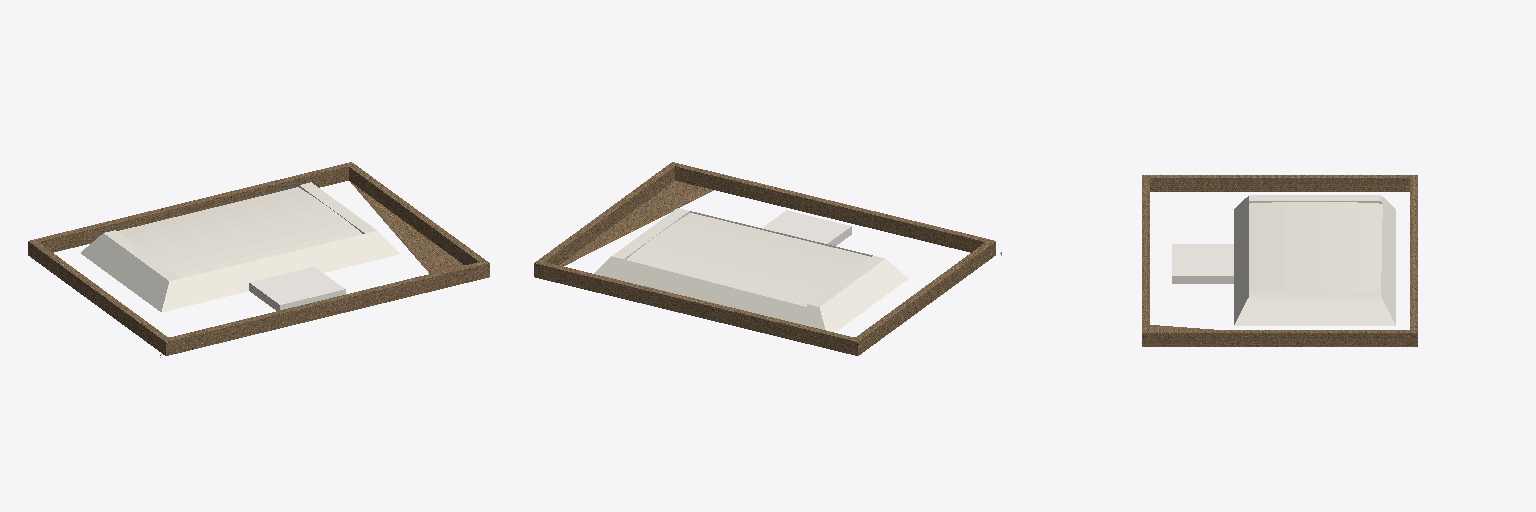
The picture shows the model from 3 angles: view 1: azimuth 30°, elevation 25°; view 2: azimuth 150°, elevation 25°; view 3: azimuth 270°, elevation 25°; orthographic projection.
Visible parts, largest first — view 1: Mesh1 Component_1_1 Model, Mesh3 Model, Mesh2 Model; view 2: Mesh1 Component_1_1 Model, Mesh3 Model, Mesh2 Model; view 3: Mesh1 Component_1_1 Model, Mesh3 Model, Mesh2 Model.
Boxes of the visible parts, box(x1,y1,x2,y2) form: Mesh1 Component_1_1 Model: box(81, 182, 399, 312); Mesh3 Model: box(28, 162, 489, 355); Mesh2 Model: box(249, 267, 345, 310); Mesh1 Component_1_1 Model: box(594, 208, 908, 332); Mesh3 Model: box(534, 162, 995, 355); Mesh2 Model: box(762, 210, 851, 245); Mesh1 Component_1_1 Model: box(1234, 195, 1395, 325); Mesh3 Model: box(1142, 175, 1417, 346); Mesh2 Model: box(1172, 244, 1233, 283).
Size of the model in its own units: 122 by 7.68 by 88.4.
5 materials, 2 textured.